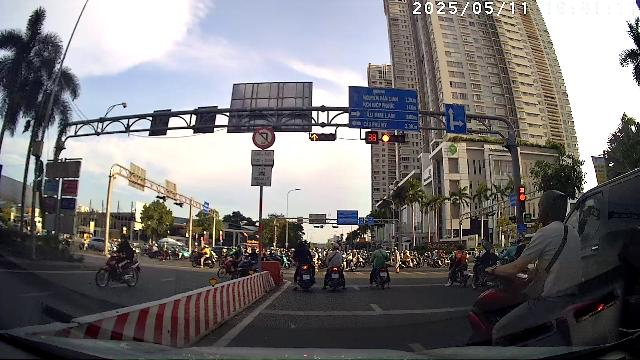103c-cam-oto-re-trai: (252, 127, 276, 149)
